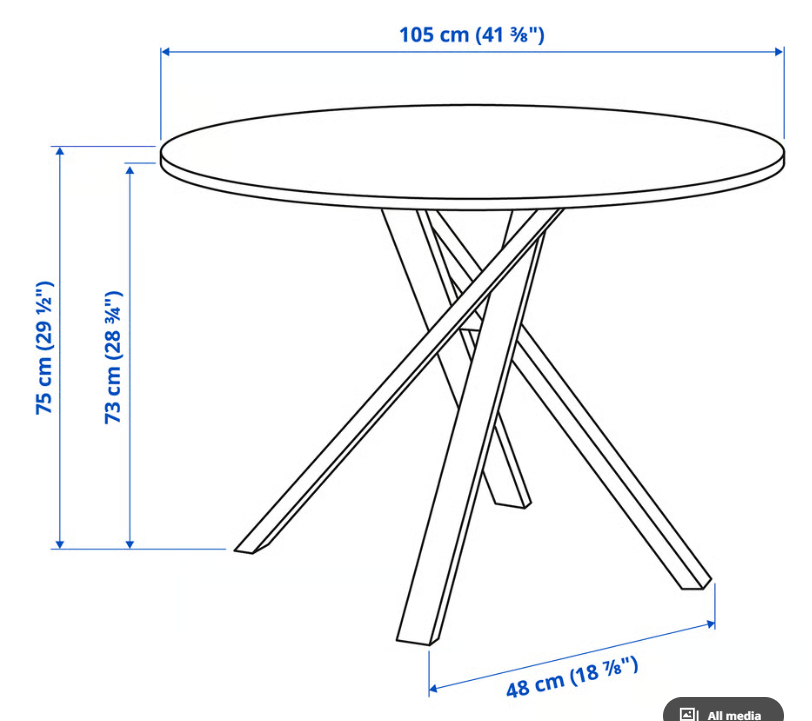table_legs: (235, 209, 564, 553), (396, 231, 545, 645), (512, 324, 711, 589), (382, 209, 458, 331), (437, 294, 490, 407), (483, 411, 531, 508), (426, 211, 482, 293), (502, 210, 537, 248)
table_top: (161, 105, 784, 210)
